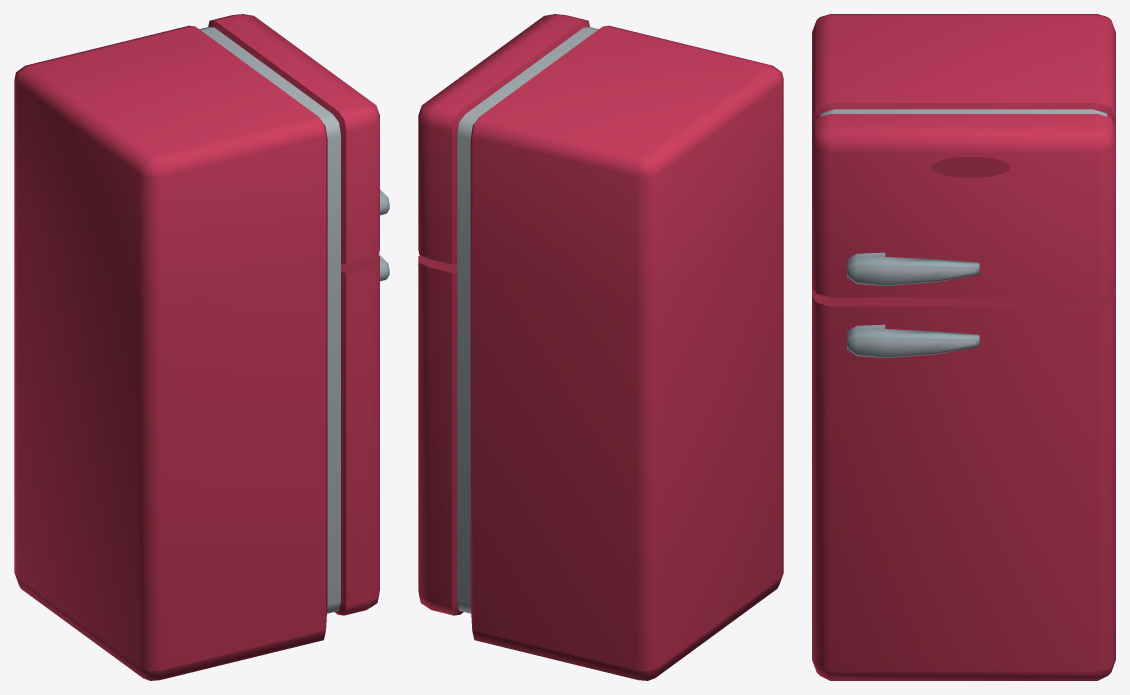
File: refrigerator.glb
3 views of the same model, side by side, from view 1: azimuth 30°, elevation 25°; view 2: azimuth 150°, elevation 25°; view 3: azimuth 270°, elevation 25° (orthographic). The views are drawn at different scales.
Parts seen in each view (by area): view 1: refrigerator; view 2: refrigerator; view 3: refrigerator.
Part boxes in pixels (bbox=[...]): refrigerator: bbox=[14, 14, 389, 680]; refrigerator: bbox=[418, 14, 783, 680]; refrigerator: bbox=[812, 14, 1115, 680].
Bounding box in the file's own units: 1.09 × 2.08 × 1.
